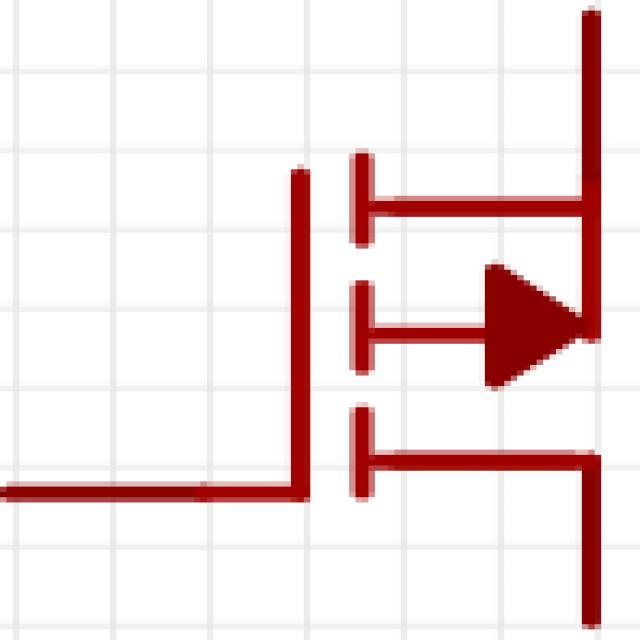pmos: (60, 71, 640, 631)
